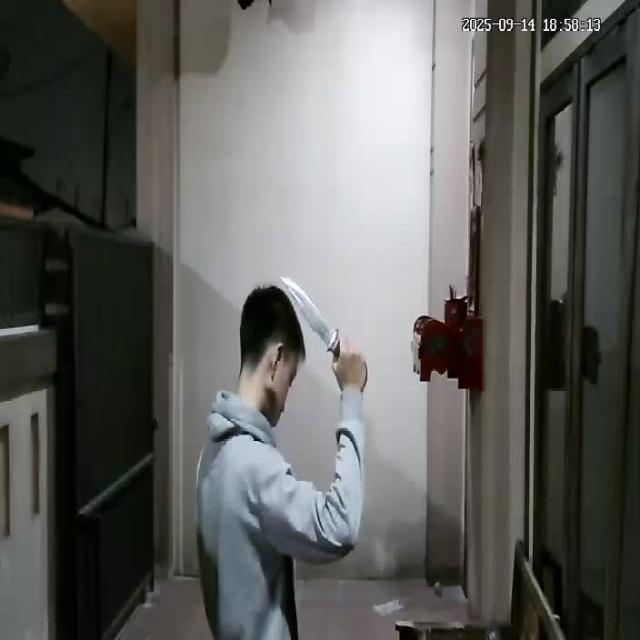senjata_tajam: (278, 272, 342, 354)
